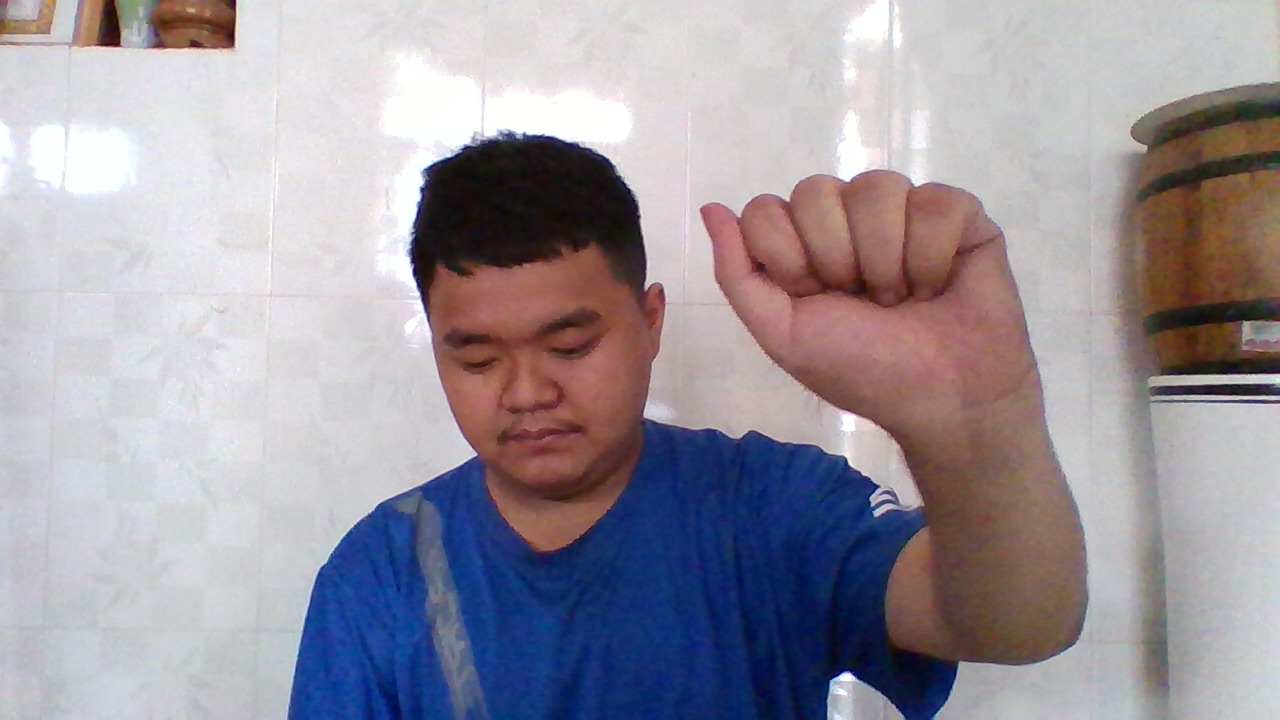A: (701, 168, 977, 420)
